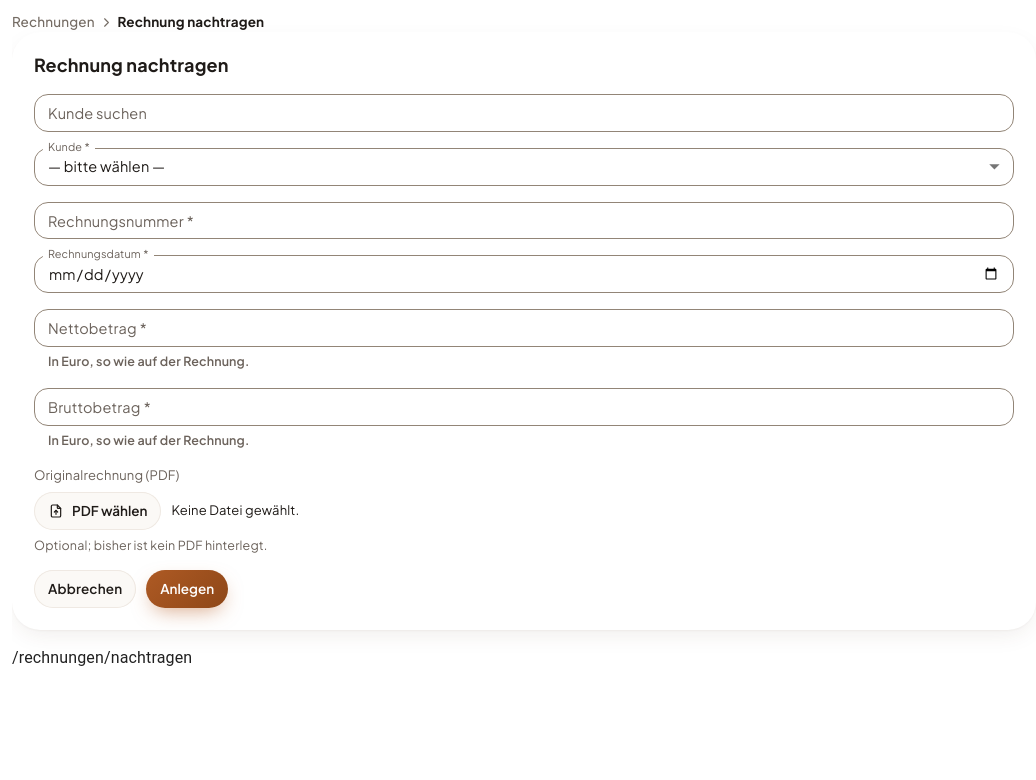
Test: NachtragMaske — Leer › sagt, wenn die Suche nach einem Kunden nichts findet
Expected: the dropdown labelled "Kunde" is shown, 34,148 -> 1014,186
Click the search field labelled "Kunde suchen" at [524, 113], box 34,94 -> 1014,132
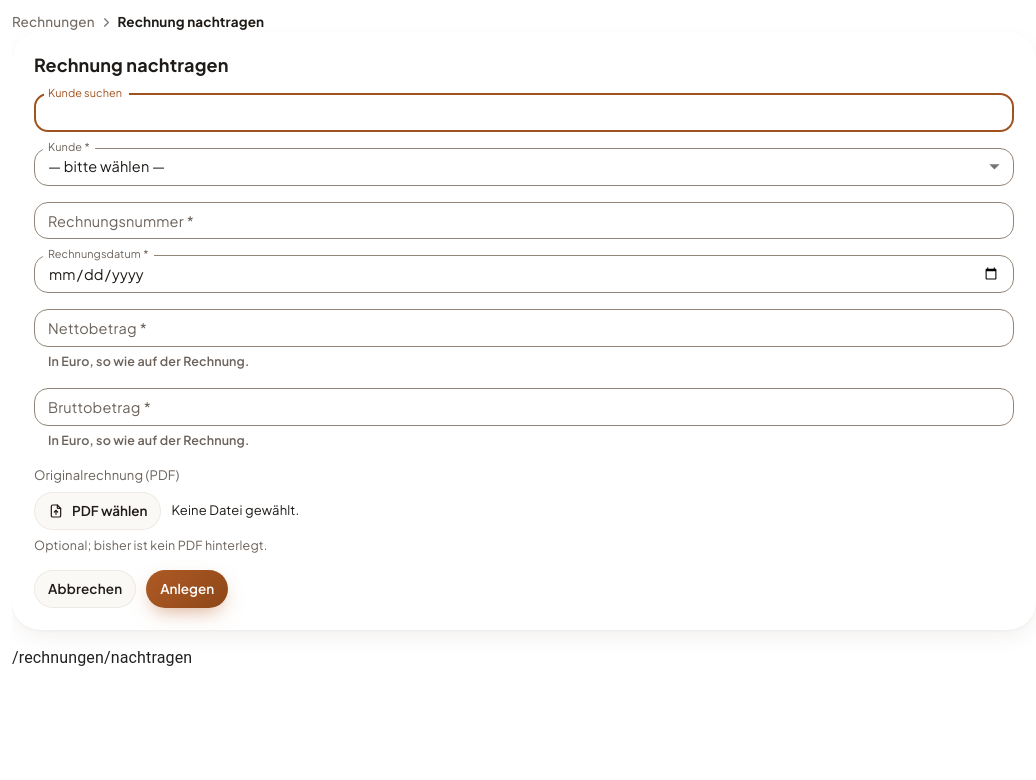
Type keys "Zeta"
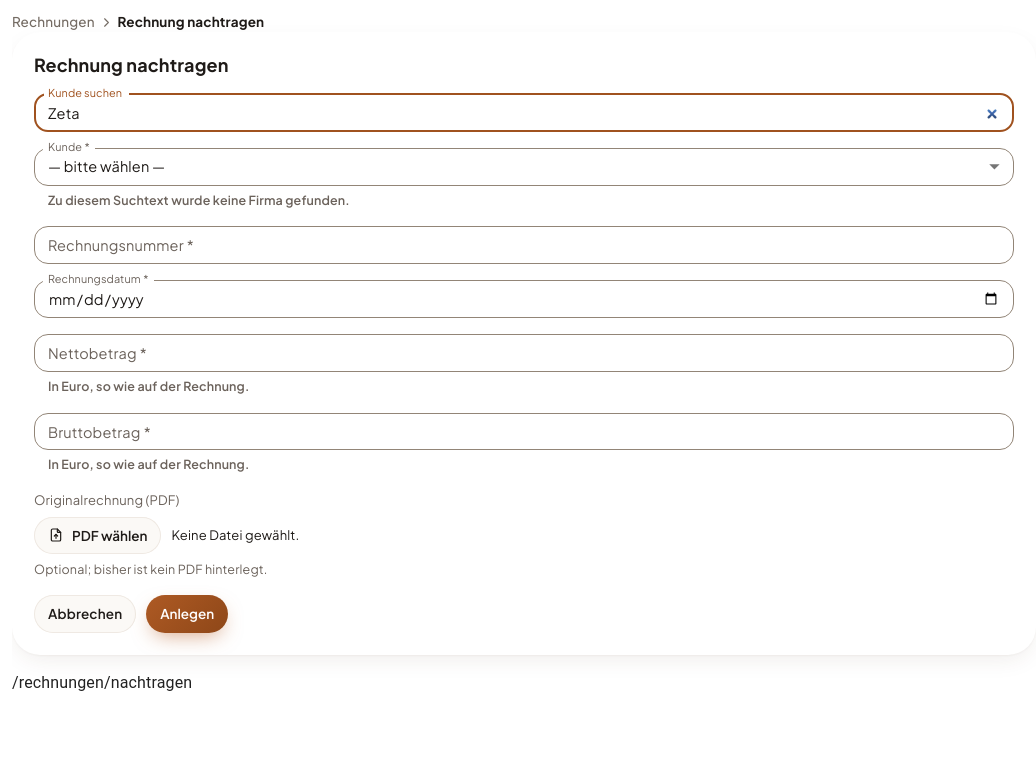
Expected: the text "Zu diesem Suchtext wurde keine Firma gefunden." is shown, 48,192 -> 350,208
